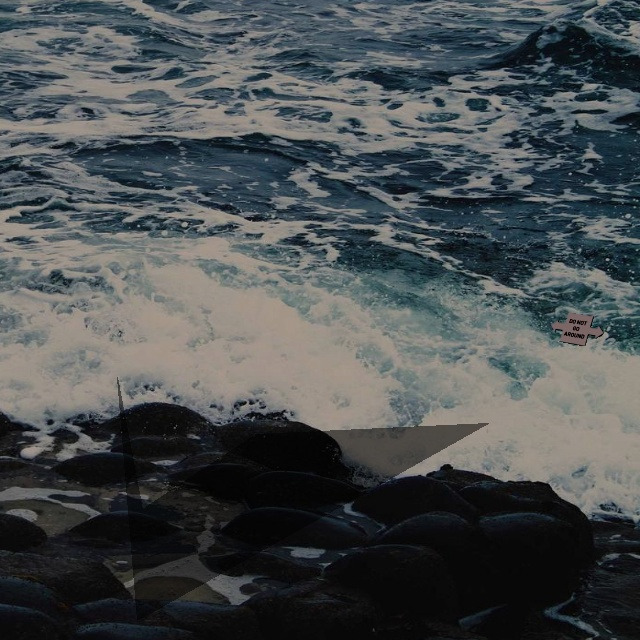DO_NOT_GO_AROUND: (550, 312, 604, 346)
